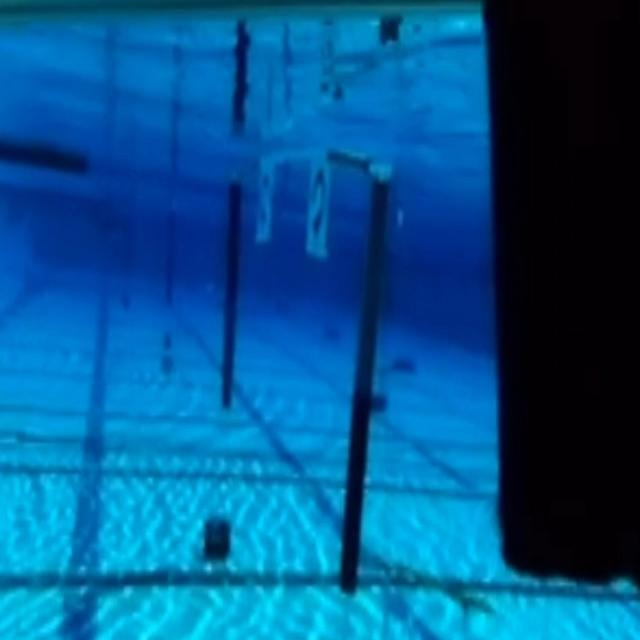Gate: (224, 152, 374, 590)
